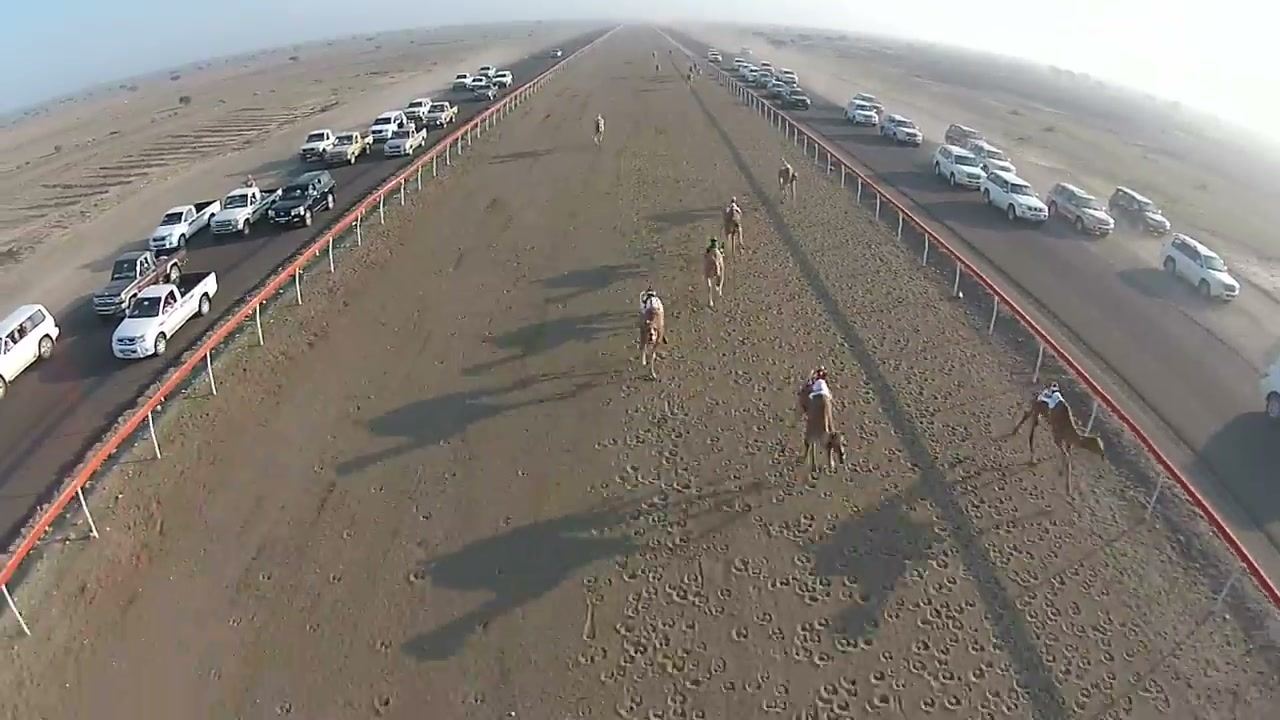animal_foot_print: (590, 394, 1128, 719), (731, 226, 950, 455)
